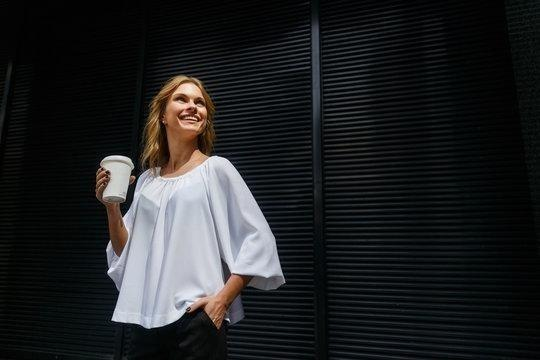cup-disposable: (99, 154, 135, 204)
